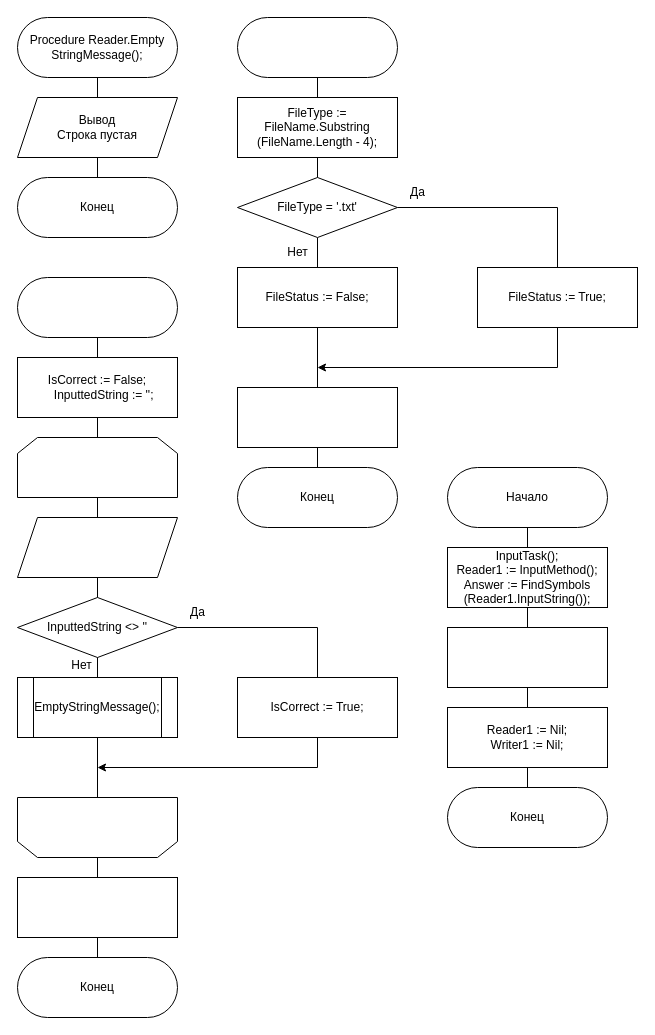
Image size: 655x1035. Some labels were removed from this diagram. Each missing label, with the box of its shape:
(isCorrect) A1: (16, 796, 178, 858)
A1: (16, 436, 178, 498)
Function ConsoleReader.InputString(): String;: (16, 276, 178, 338)
Function FileReader.IsFileTxt(): Boolean;: (236, 16, 398, 78)
Result := FileStatus;: (236, 386, 398, 448)
Result := InputtedString;: (16, 876, 178, 938)
Writer1 := OutputMethod(); Writer1.OutputString(Answer);: (446, 626, 608, 688)
Ввод InputtedString: (16, 516, 178, 578)
